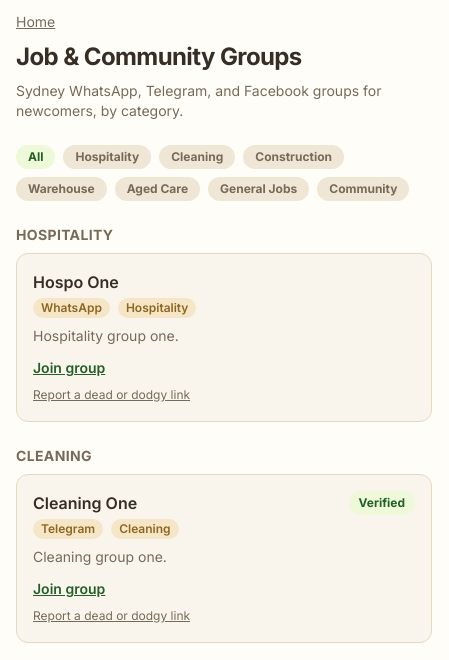
it: GroupsPage › shows an empty state for a category with zero groups
The image size is (449, 660).
Click the button "Construction".
click(294, 157)  # box [243,145,344,169]
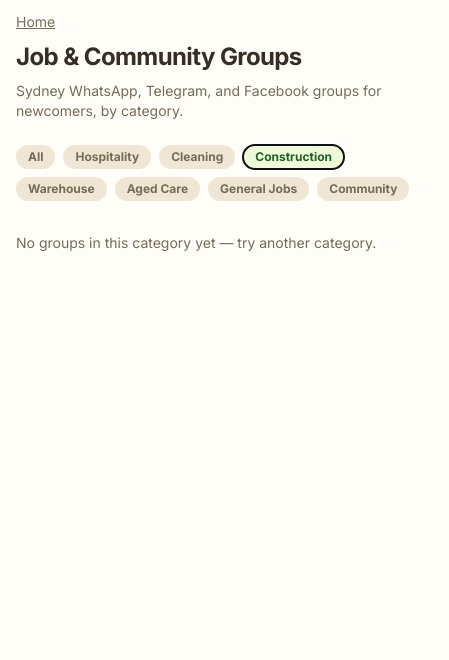
Expected: the text "No groups in this category yet — try another category." is shown, [16,233,432,253]
